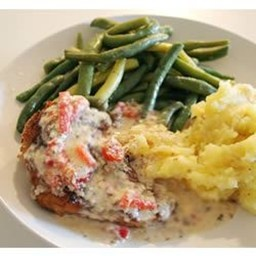background: (6, 6, 102, 91)
